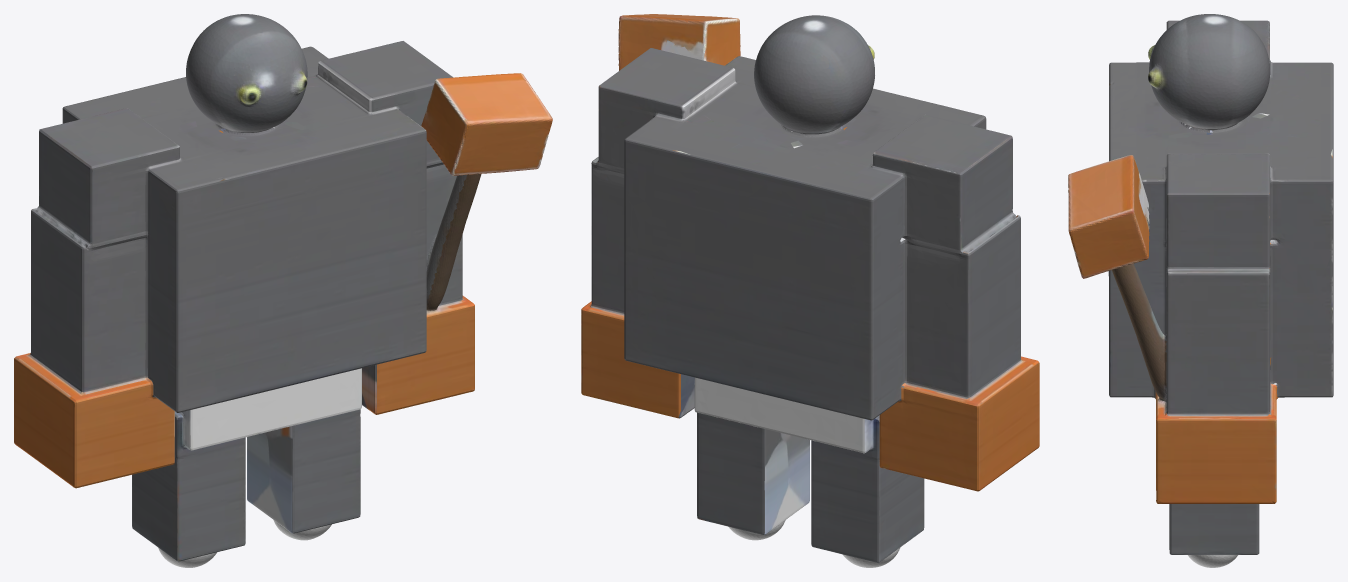
File: creature-044.glb
The picture shows the model from 3 angles, left to right: view 1: azimuth 30°, elevation 25°; view 2: azimuth 150°, elevation 25°; view 3: azimuth 270°, elevation 25°; orthographic projection. The views are drawn at different scales.
Visible parts, largest first — view 1: tmp5678yltf.ply; view 2: tmp5678yltf.ply; view 3: tmp5678yltf.ply.
Boxes of the visible parts, <box> form: tmp5678yltf.ply: <box>14,14,552,567</box>; tmp5678yltf.ply: <box>581,14,1039,567</box>; tmp5678yltf.ply: <box>1068,14,1333,567</box>.
Size of the model in its own units: 1.71 by 1.99 by 0.9263.
1 material, 1 textured.
